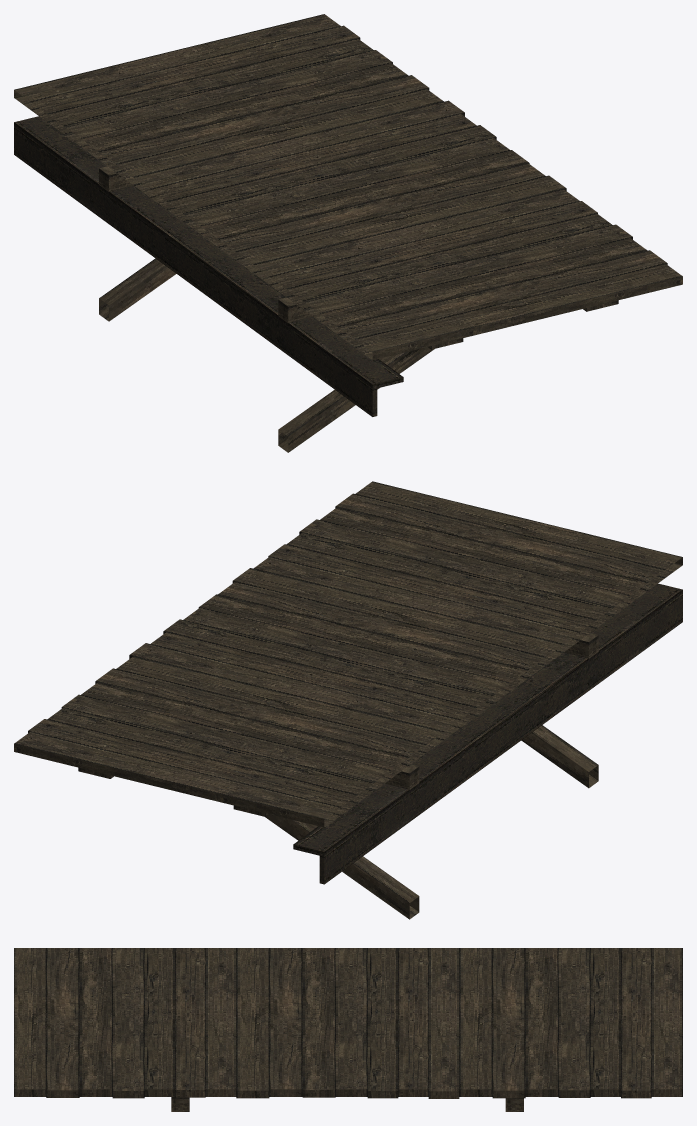
File: platform_ax_1.glb
The picture shows the model from 3 angles, top to bottom: view 1: azimuth 30°, elevation 25°; view 2: azimuth 150°, elevation 25°; view 3: azimuth 270°, elevation 25°; orthographic projection. The views are drawn at different scales.
Parts seen in each view (by area): view 1: platform_ax_1; view 2: platform_ax_1; view 3: platform_ax_1.
Part boxes in pixels (x1,y1,x2,y2): platform_ax_1: (14, 14, 682, 452); platform_ax_1: (14, 481, 682, 919); platform_ax_1: (14, 948, 682, 1111).
Size of the model in its own units: 2.03 by 1 by 4.
2 materials, 2 textured.
